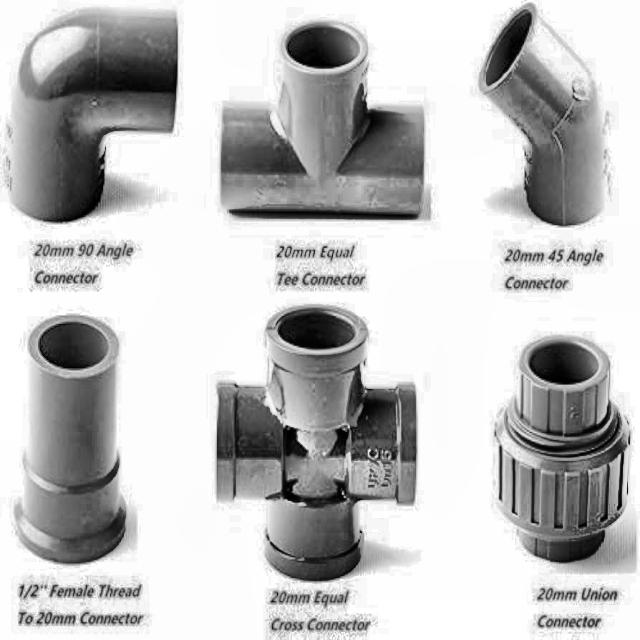ELBOW45: (480, 5, 609, 230)
ELBOW90: (6, 8, 178, 222)
EQUALCROSS: (218, 306, 418, 581)
EQUALTEE: (220, 21, 425, 219)
